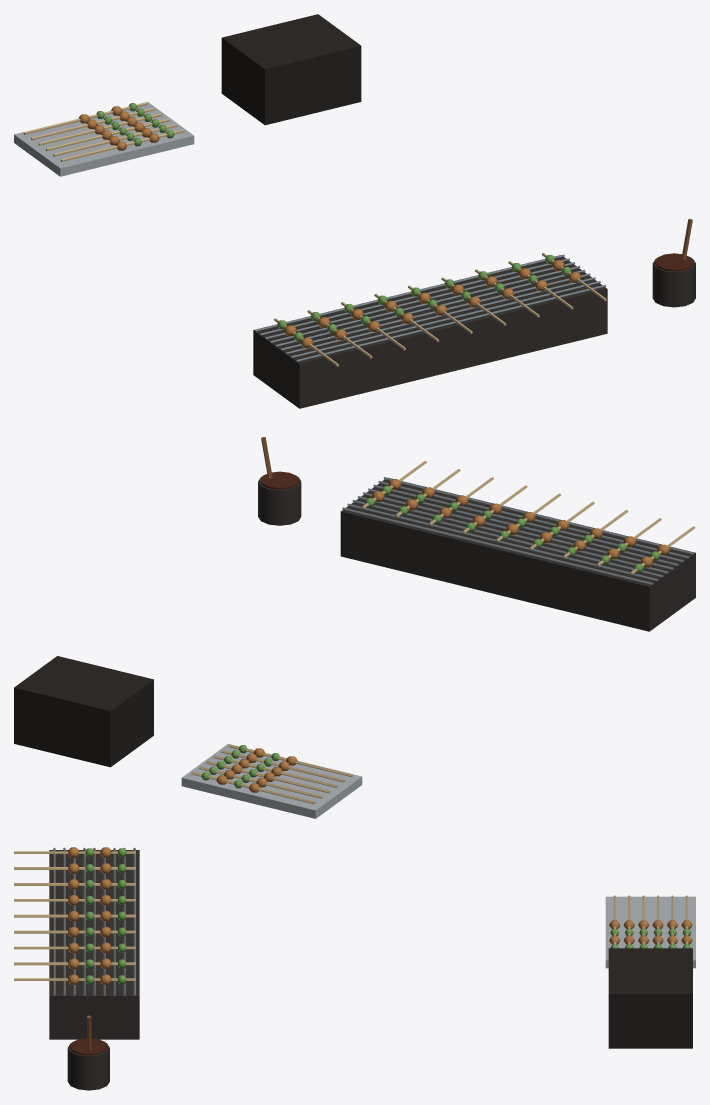
File: goods_yakitori.glb
3 views of the same model, one above another, from view 1: azimuth 30°, elevation 25°; view 2: azimuth 150°, elevation 25°; view 3: azimuth 270°, elevation 25° (orthographic). The views are drawn at different scales.
Parts seen in each view (by area): view 1: goods_yakitori; view 2: goods_yakitori; view 3: goods_yakitori.
Part boxes in pixels (x1=…): goods_yakitori: x1=14, y1=14, x2=695, y2=408; goods_yakitori: x1=14, y1=437, x2=695, y2=818; goods_yakitori: x1=14, y1=847, x2=695, y2=1090.
Bounding box in the file's own units: 1.55 × 0.268 × 2.27.
